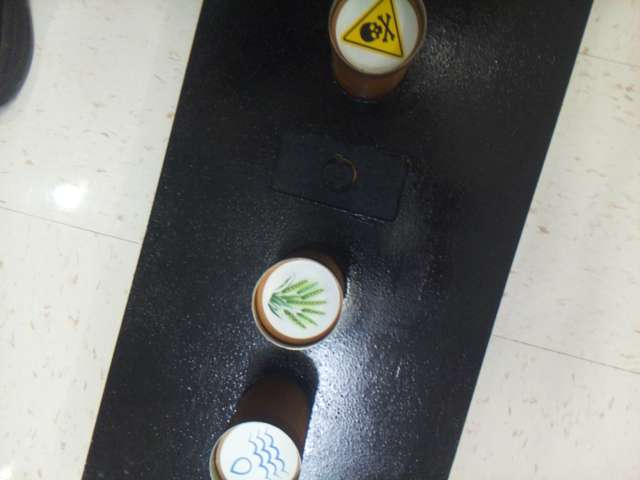toxic_fluid: (336, 0, 418, 73)
water_barrel: (218, 422, 297, 479)
wheat_barrel: (262, 260, 339, 339)
